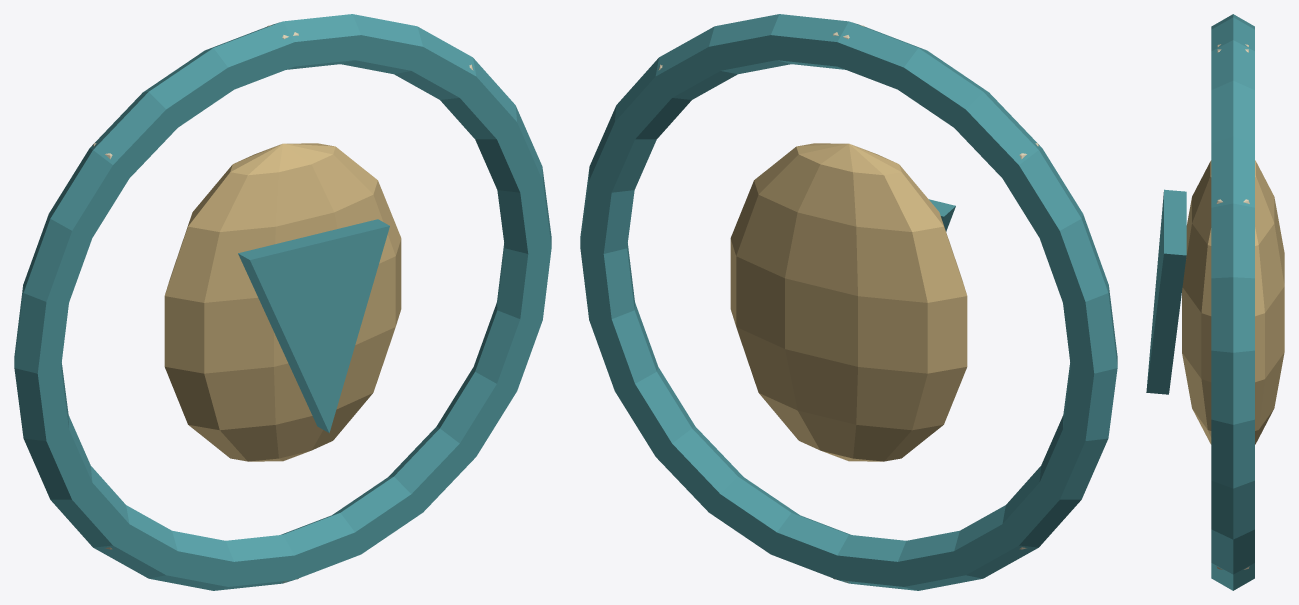
File: marine-power-2.glb
3 renders of one model, left to right at view 1: azimuth 30°, elevation 25°; view 2: azimuth 150°, elevation 25°; view 3: azimuth 270°, elevation 25°, orthographic. The views are drawn at different scales.
Parts seen in each view (by area): view 1: marine-power-2; view 2: marine-power-2; view 3: marine-power-2.
Part boxes in pixels (x1=…): marine-power-2: x1=14, y1=14, x2=551, y2=590; marine-power-2: x1=580, y1=14, x2=1117, y2=590; marine-power-2: x1=1146, y1=14, x2=1284, y2=590.
Size of the model in its own units: 2.3 by 2.3 by 0.5488.
